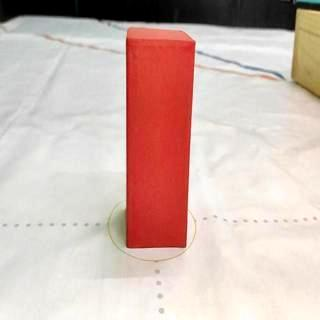redbox: (124, 27, 196, 246)
